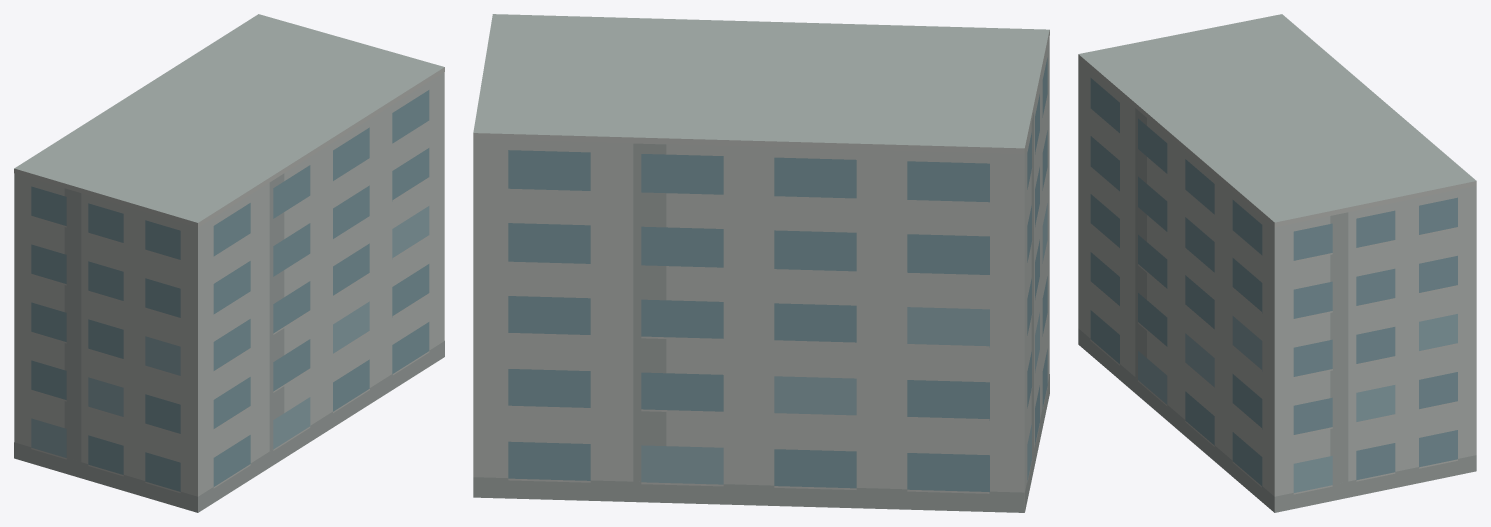
The model's file is survey-upis-32702242.glb.
The picture shows the model from 3 angles, left to right: view 1: azimuth 30°, elevation 25°; view 2: azimuth 150°, elevation 25°; view 3: azimuth 270°, elevation 25°; orthographic projection. The views are drawn at different scales.
Visible parts, largest first — view 1: survey-upis-32702242.tmp; view 2: survey-upis-32702242.tmp; view 3: survey-upis-32702242.tmp.
Part boxes in pixels (x1,y1,x2,y2): survey-upis-32702242.tmp: (14, 14, 444, 512); survey-upis-32702242.tmp: (473, 14, 1049, 512); survey-upis-32702242.tmp: (1078, 14, 1476, 512).
Bounding box in the file's own units: 22.5 × 14.6 × 18.17.
